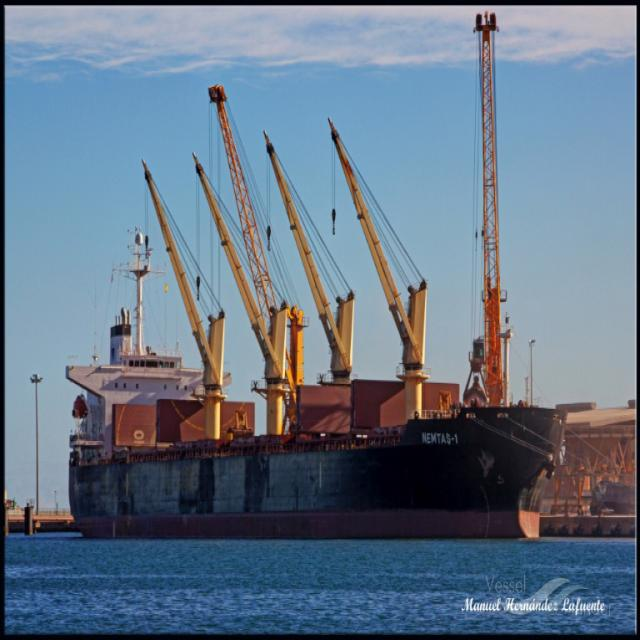OCR: (419, 420, 460, 446)
